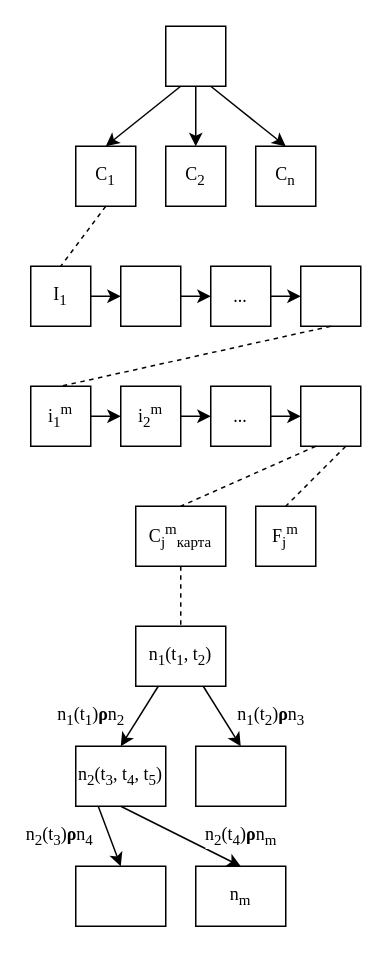
This 387x953 diagram has some shape labels left out. Here are the shapes that lost their labels. From the top down, the centre of each, then its label:
At (195,55): "WS".
At (150,295): "I 2".
At (330,295): "I m".
At (330,415): "i j m".
At (240,775): "n 3 (t 6 , t 7 )".
At (120,895): "n 4".
